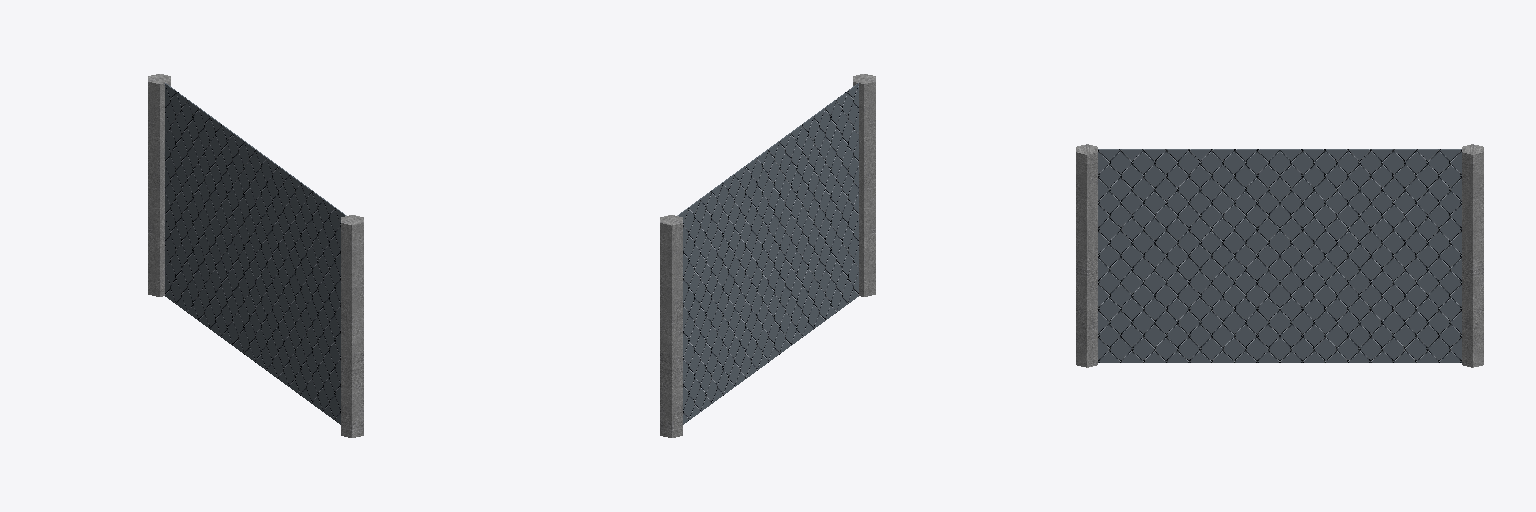
3 views of the same model, side by side, from view 1: azimuth 30°, elevation 25°; view 2: azimuth 150°, elevation 25°; view 3: azimuth 270°, elevation 25° (orthographic).
Parts seen in each view (by area): view 1: Object_ColAlphY_pattern_59_diffus.jpg, Object_Metall__04.jpg; view 2: Object_ColAlphY_pattern_59_diffus.jpg, Object_Metall__04.jpg; view 3: Object_ColAlphY_pattern_59_diffus.jpg, Object_Metall__04.jpg.
Boxes of the visible parts, <box> form: Object_ColAlphY_pattern_59_diffus.jpg: <box>165,83,346,424</box>; Object_Metall__04.jpg: <box>148,74,363,437</box>; Object_ColAlphY_pattern_59_diffus.jpg: <box>677,83,858,424</box>; Object_Metall__04.jpg: <box>660,74,875,437</box>; Object_ColAlphY_pattern_59_diffus.jpg: <box>1098,149,1461,362</box>; Object_Metall__04.jpg: <box>1076,144,1483,367</box>.
Bounding box in the file's own units: 0.1583 × 1.44 × 2.5.
4 materials, 2 textured.